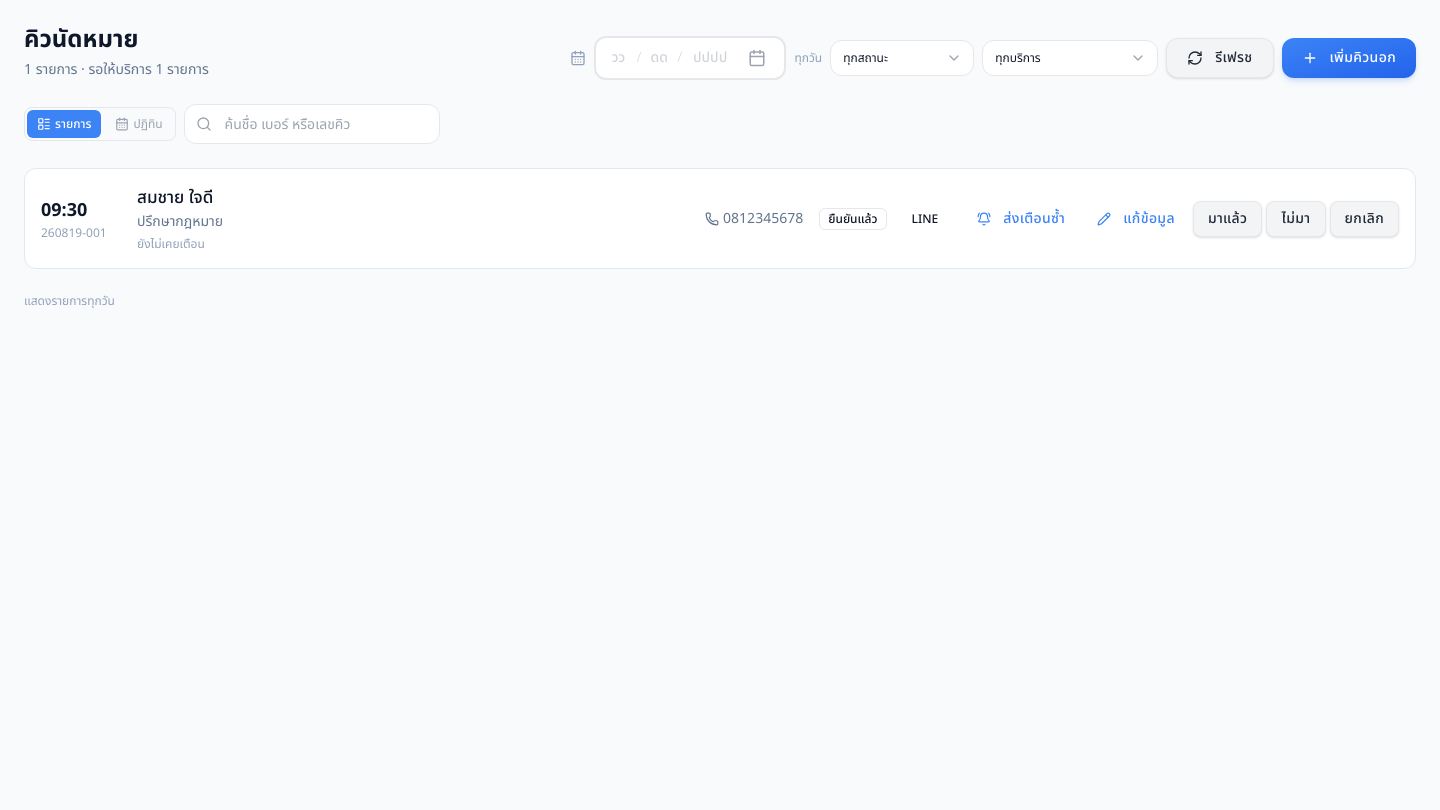
walk-in dialog › asks for service, date and time before saving
Click the button "เพิ่มคิวนอก": [1349, 58] box x1=1282 y1=38 x2=1416 y2=78
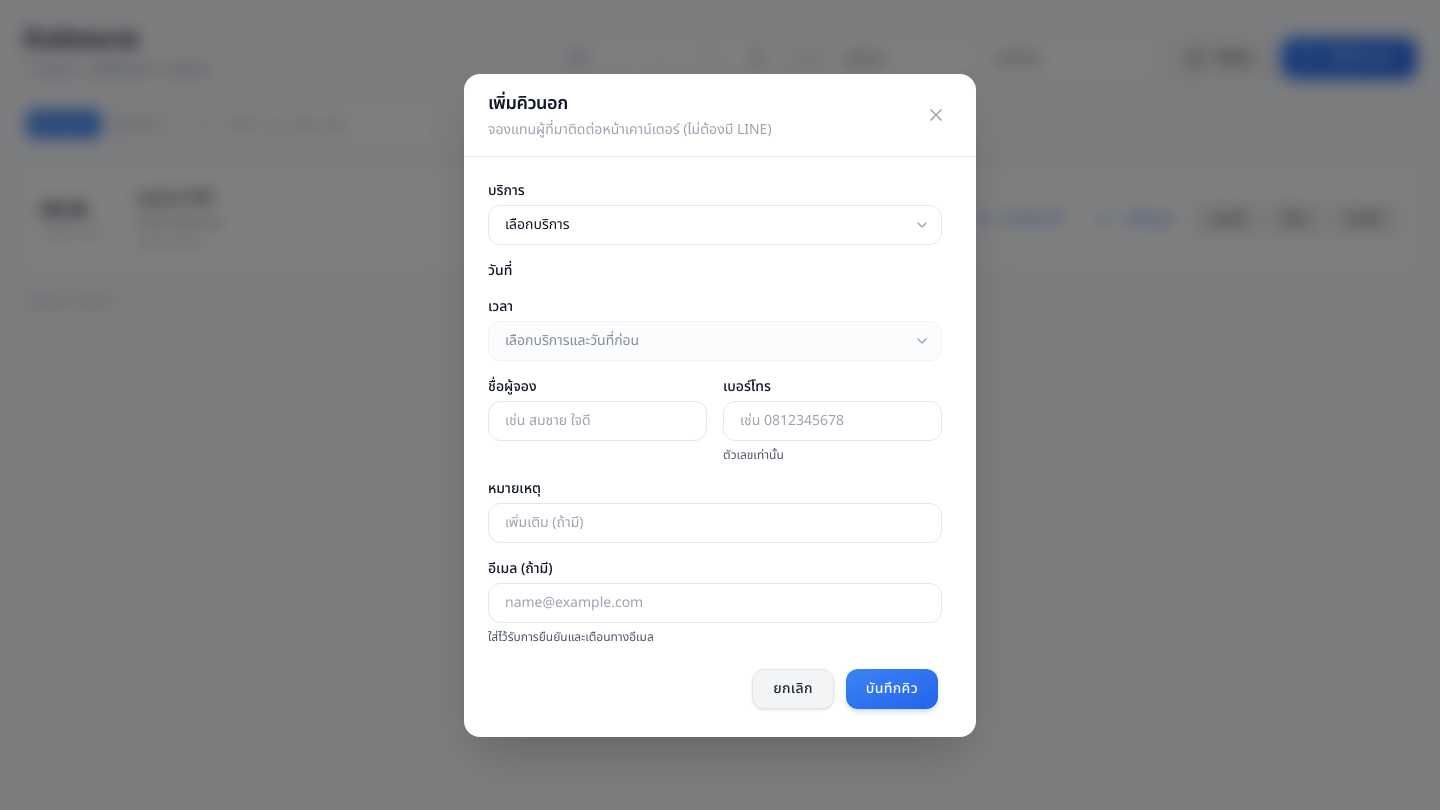
Click the button "บันทึกคิว": [892, 688] box x1=846 y1=668 x2=938 y2=708
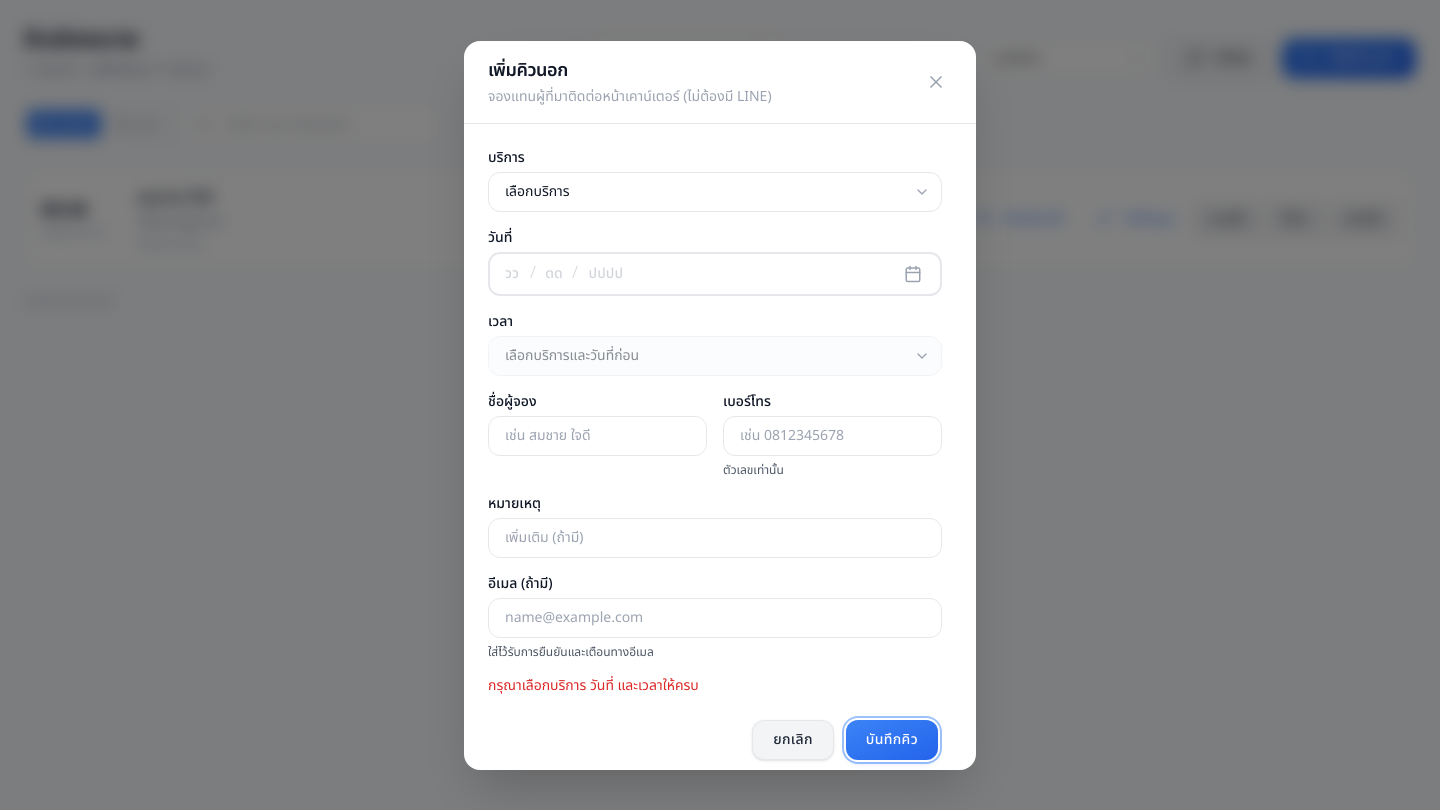
Now the text "กรุณาเลือกบริการ วันที่ และเวลาให้ครบ" is shown, box x1=488 y1=674 x2=699 y2=696
